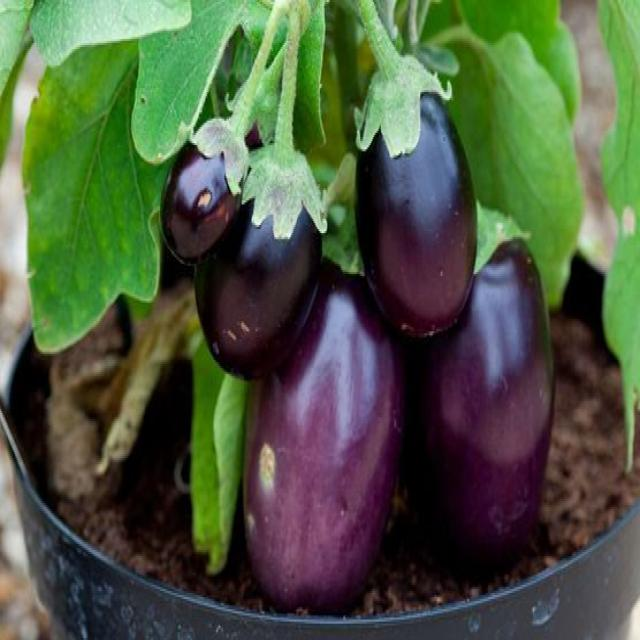Eggplant: (244, 358, 402, 608), (407, 329, 554, 572), (355, 54, 474, 328), (222, 148, 322, 366), (157, 112, 241, 256)
